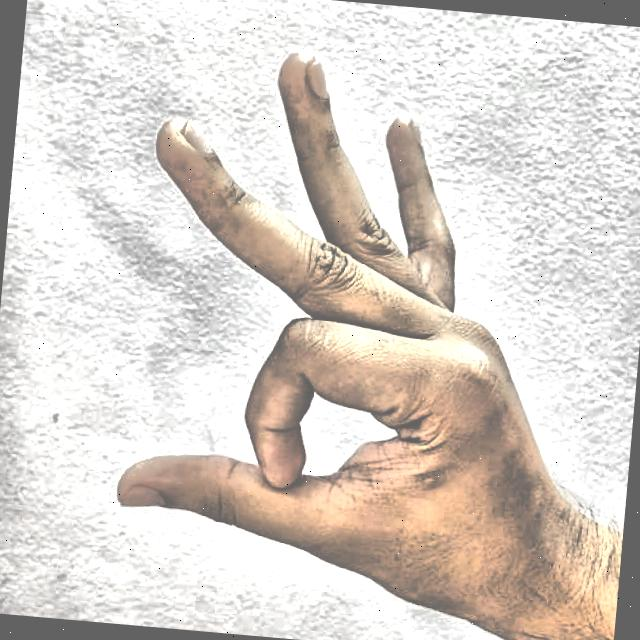Uo: (70, 14, 605, 640)
